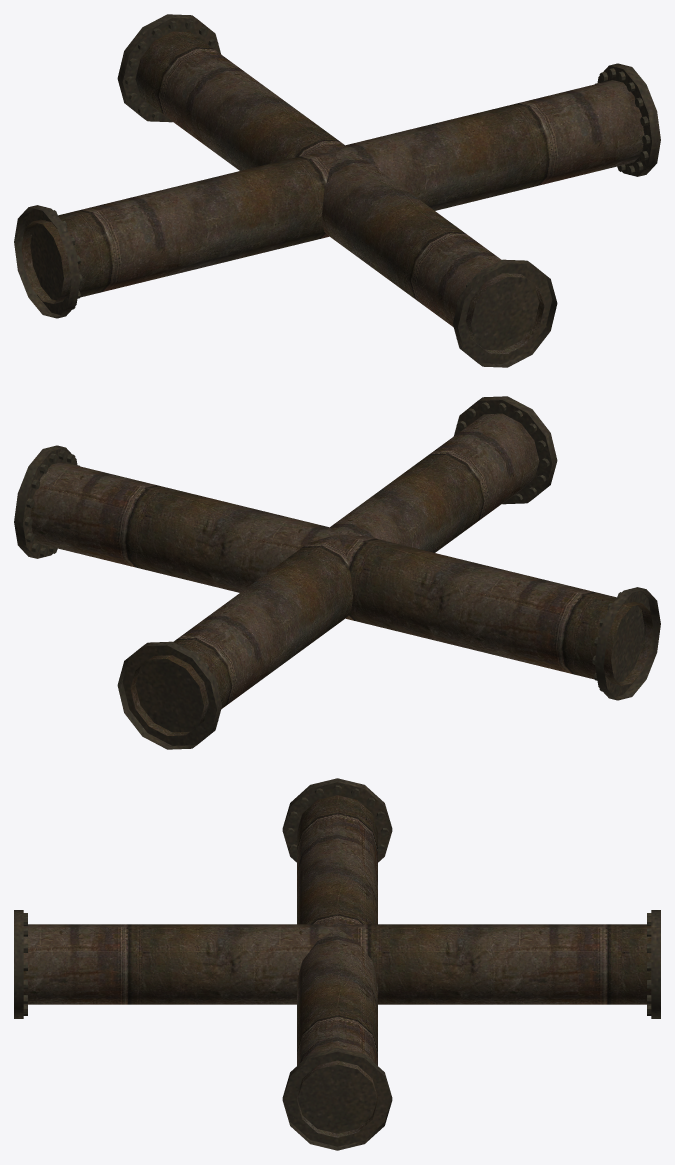
File: pipe_bx_2.obj
3 views of the same model, one above another, from view 1: azimuth 30°, elevation 25°; view 2: azimuth 150°, elevation 25°; view 3: azimuth 270°, elevation 25° (orthographic). The views are drawn at different scales.
Visible parts, largest first — view 1: pipe_bx_2; view 2: pipe_bx_2; view 3: pipe_bx_2.
Part boxes in pixels (bbox=[...]): pipe_bx_2: bbox=[14, 14, 660, 367]; pipe_bx_2: bbox=[14, 396, 660, 749]; pipe_bx_2: bbox=[14, 778, 660, 1150].
Size of the model in its own units: 4 by 0.676 by 4.
